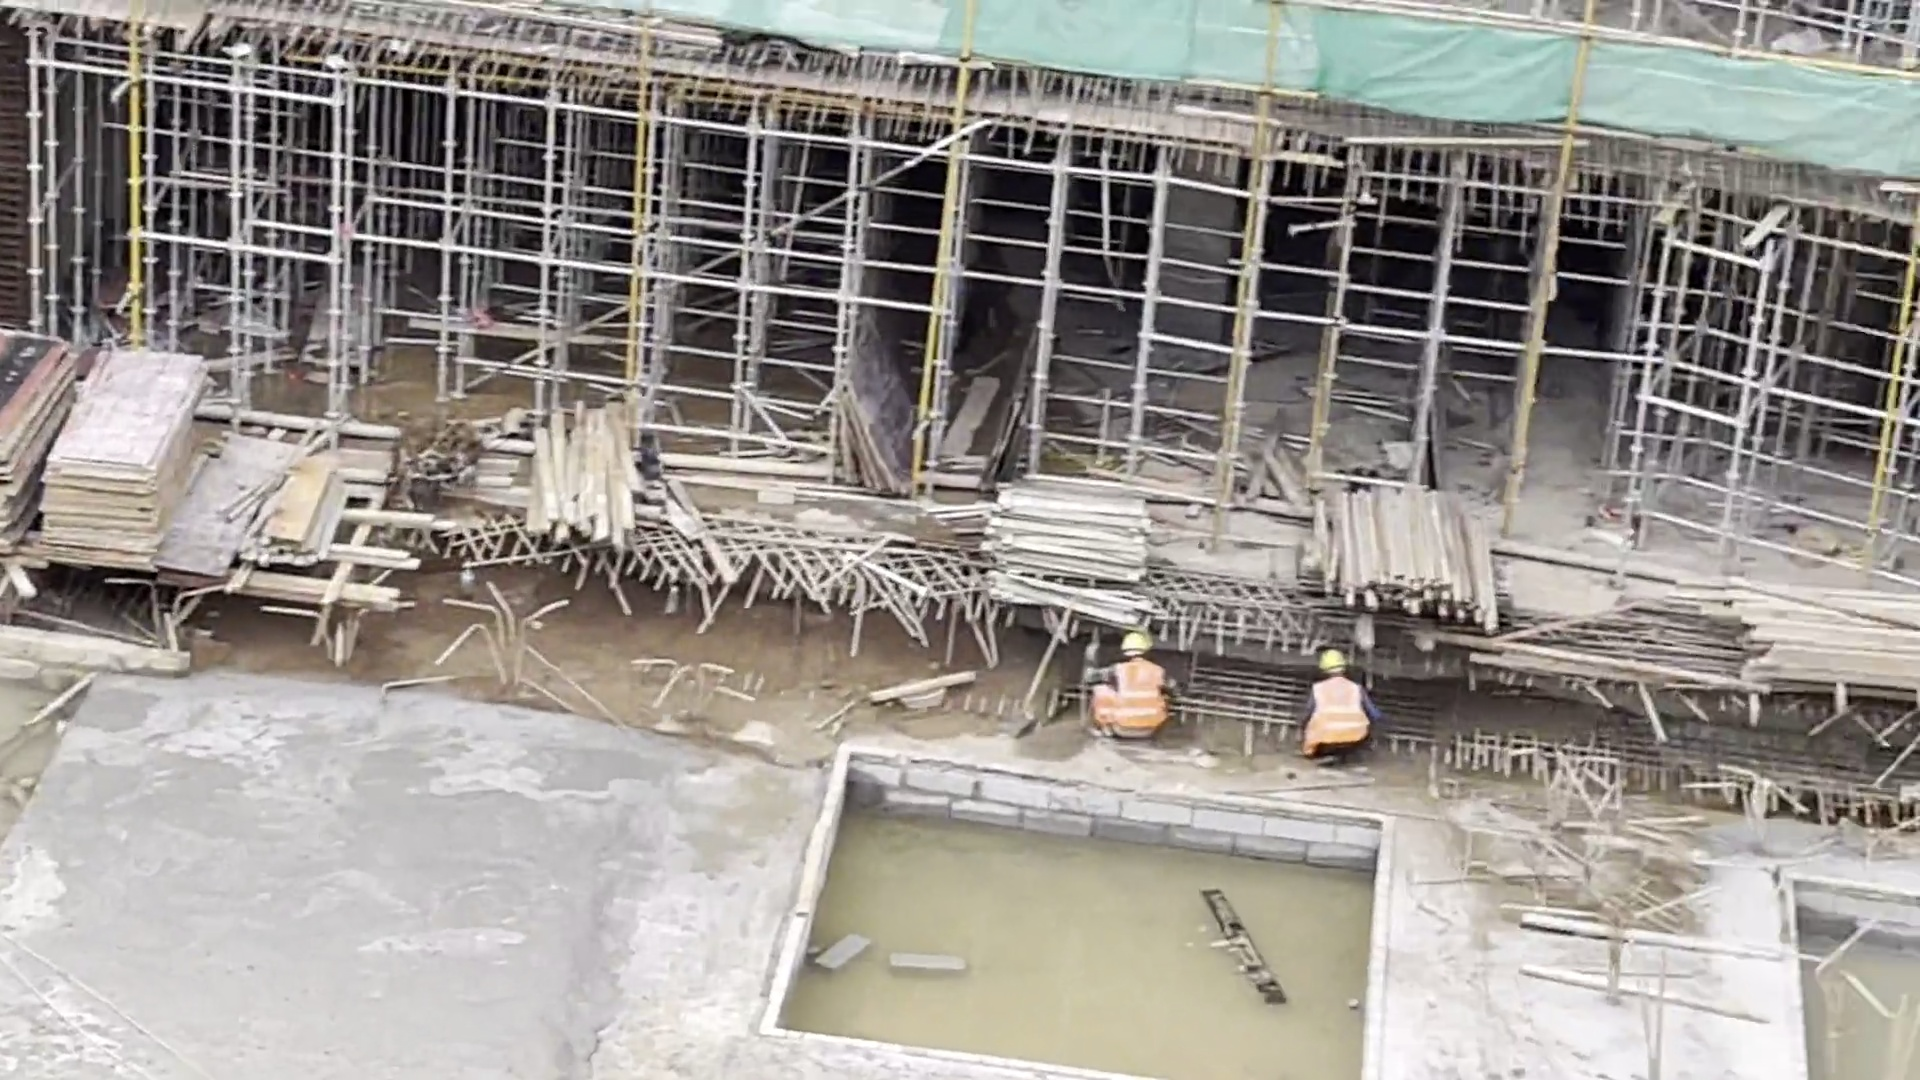board: (42, 348, 217, 568), (1, 332, 73, 543)
helmet: (1117, 631, 1151, 658), (1319, 645, 1346, 677)
person: (1078, 626, 1178, 745), (1295, 643, 1386, 766)
vest: (1088, 659, 1170, 732), (1300, 679, 1370, 755)
wood: (1718, 570, 1920, 706), (526, 399, 633, 541)
